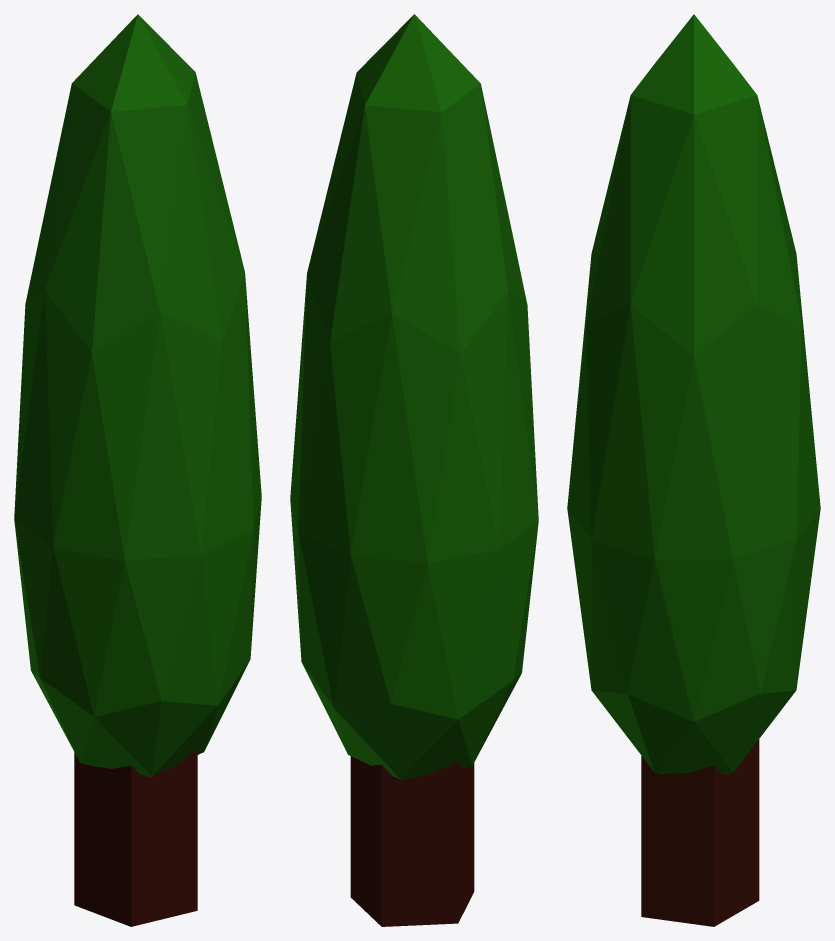
Rendered from Tree5.obj.
The picture shows the model from 3 angles, left to right: view 1: azimuth 30°, elevation 25°; view 2: azimuth 150°, elevation 25°; view 3: azimuth 270°, elevation 25°; orthographic projection.
Visible parts, largest first — view 1: Icosphere_027; view 2: Icosphere_027; view 3: Icosphere_027.
Part boxes in pixels (x1,y1,x2,y2): Icosphere_027: [14, 14, 261, 926]; Icosphere_027: [290, 14, 538, 926]; Icosphere_027: [567, 14, 820, 926].
Size of the model in its own units: 764 by 3100 by 803.
